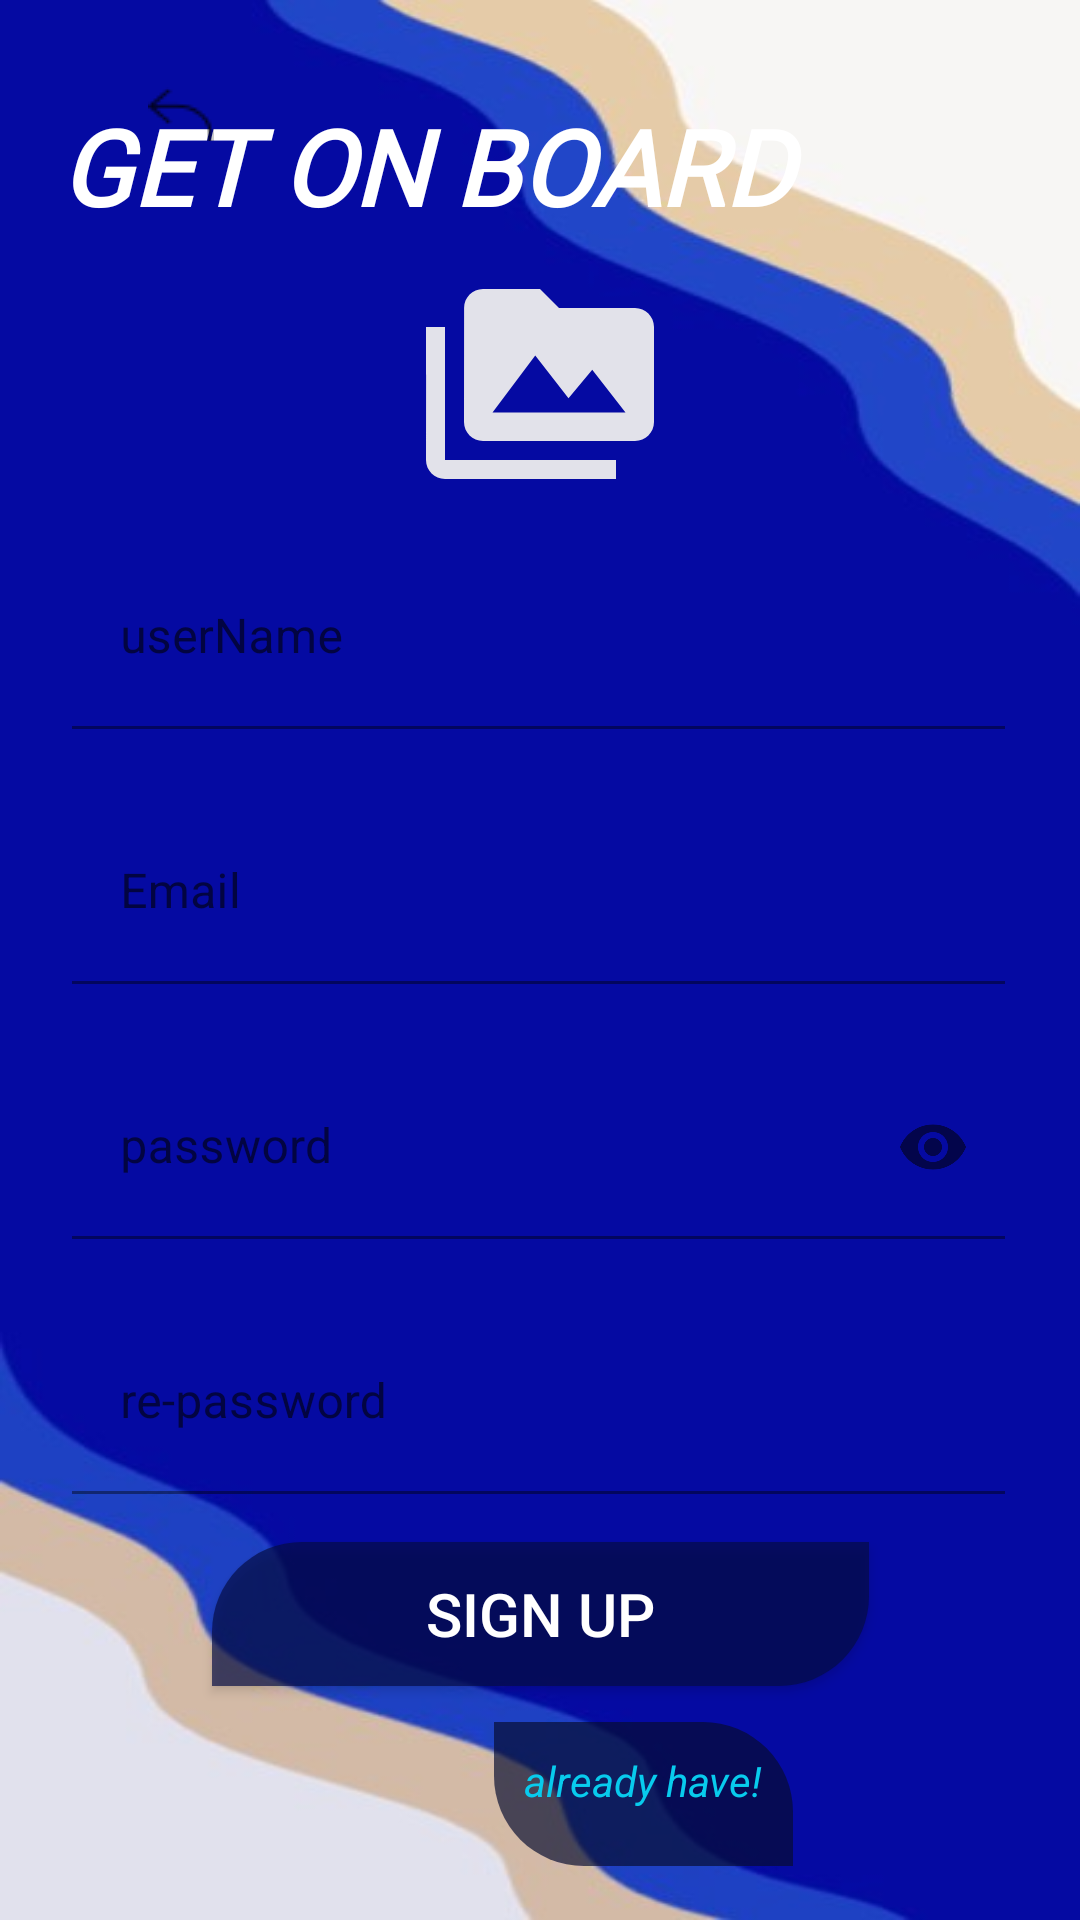

Named icons in this screenshot (1080*1920) and their bounding boxes, (x1, y1, x2, y2):
perm media: (426, 289, 654, 479)
